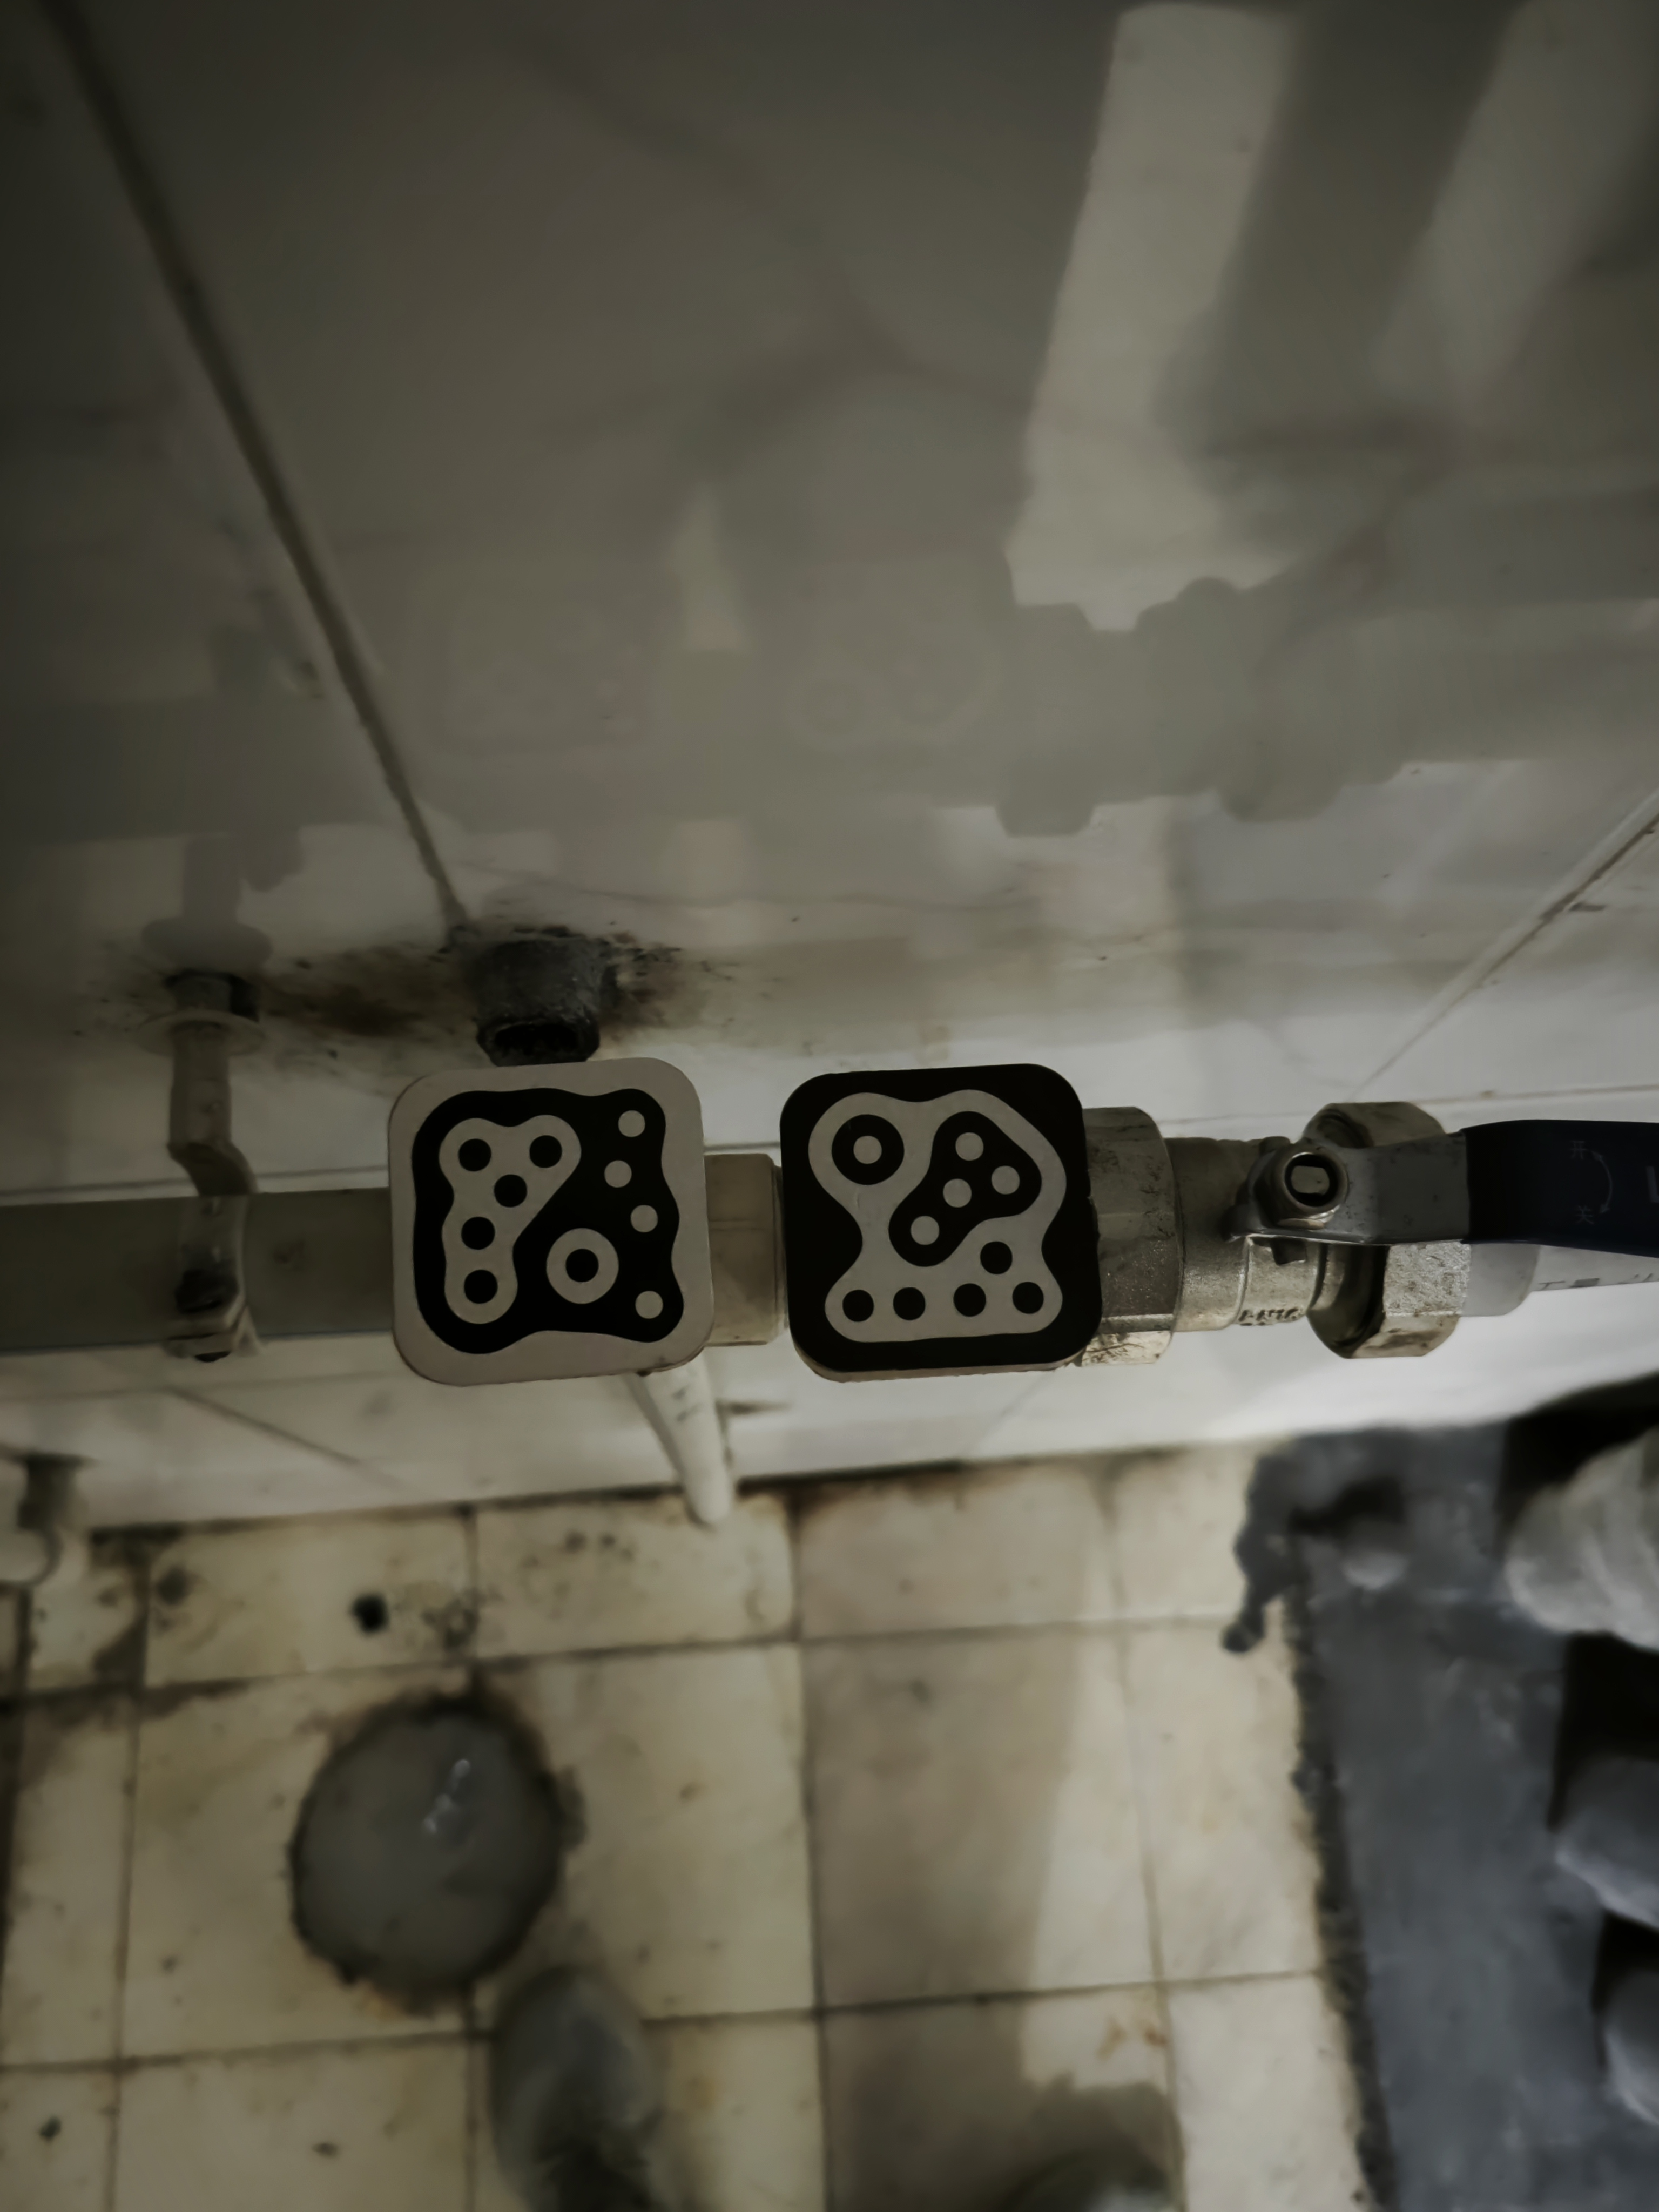mark1: (406, 1078, 695, 1352)
mark2: (805, 1083, 1075, 1346)
